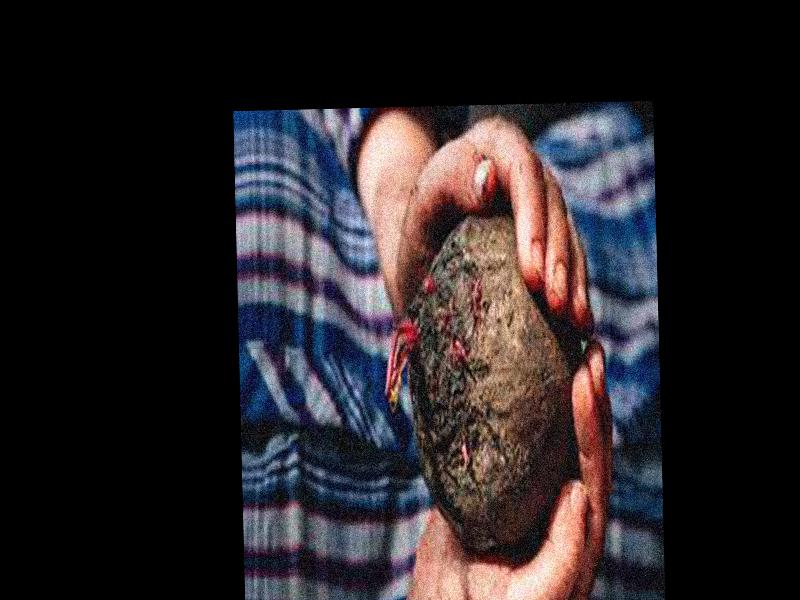Beet: (379, 213, 578, 557)
